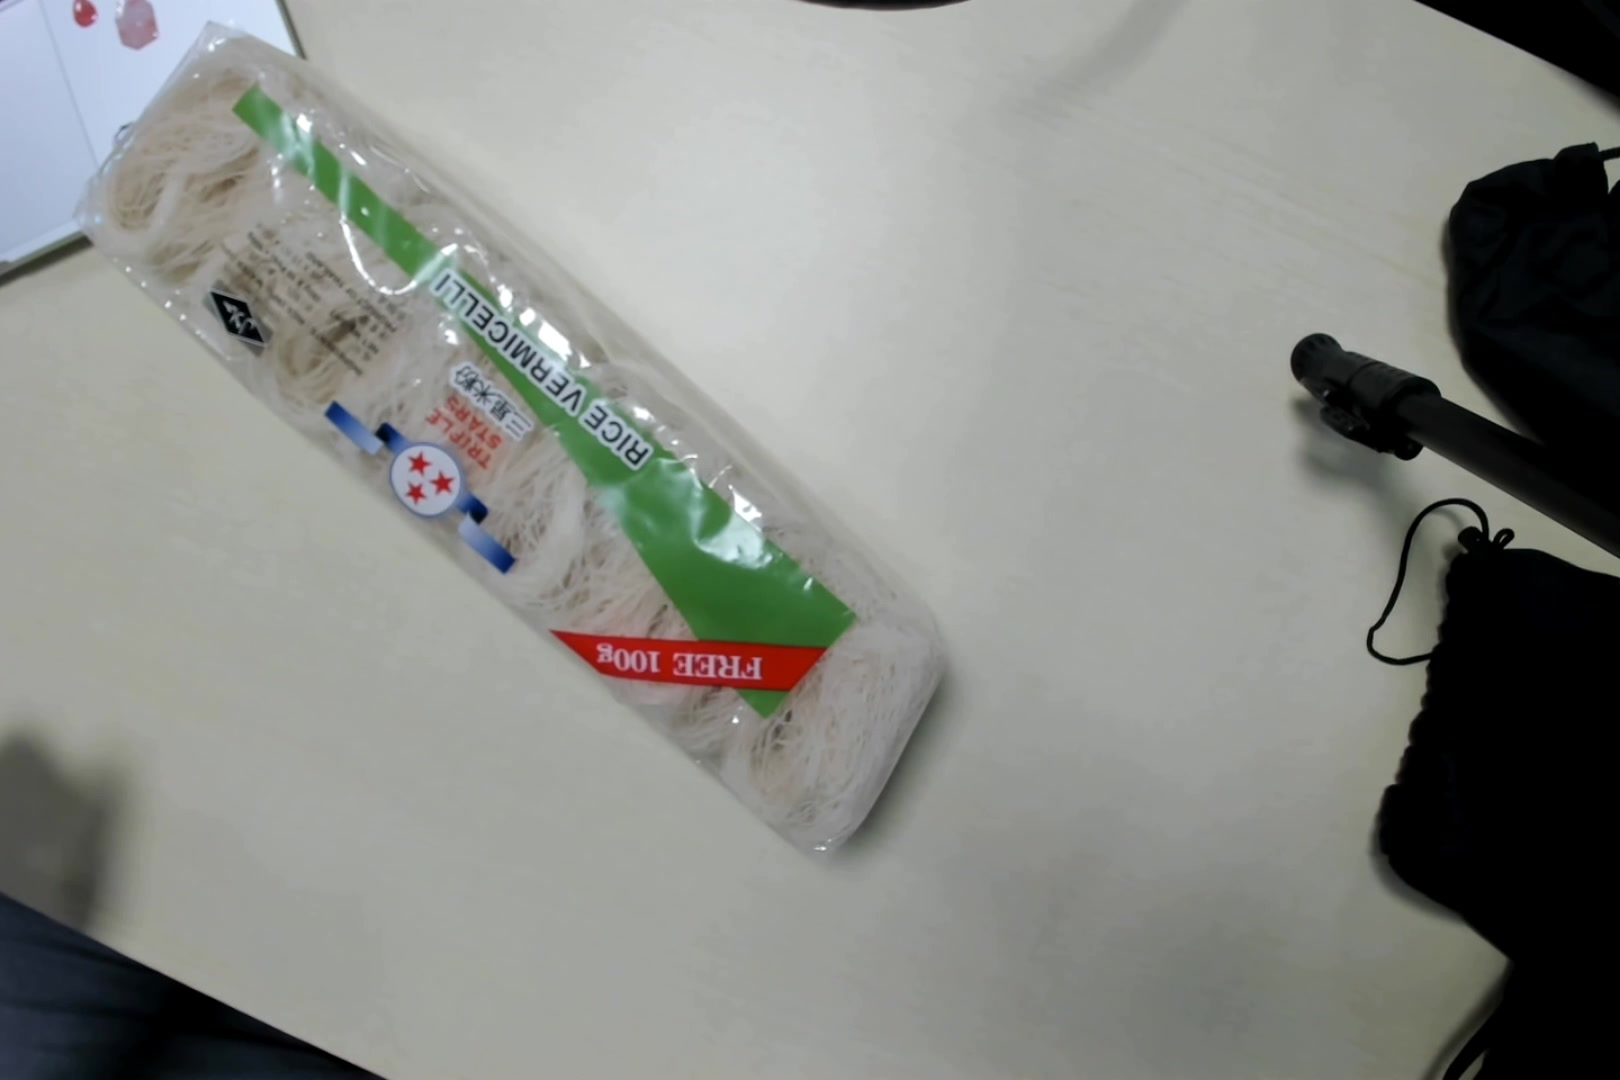d: (93, 42, 947, 870)
